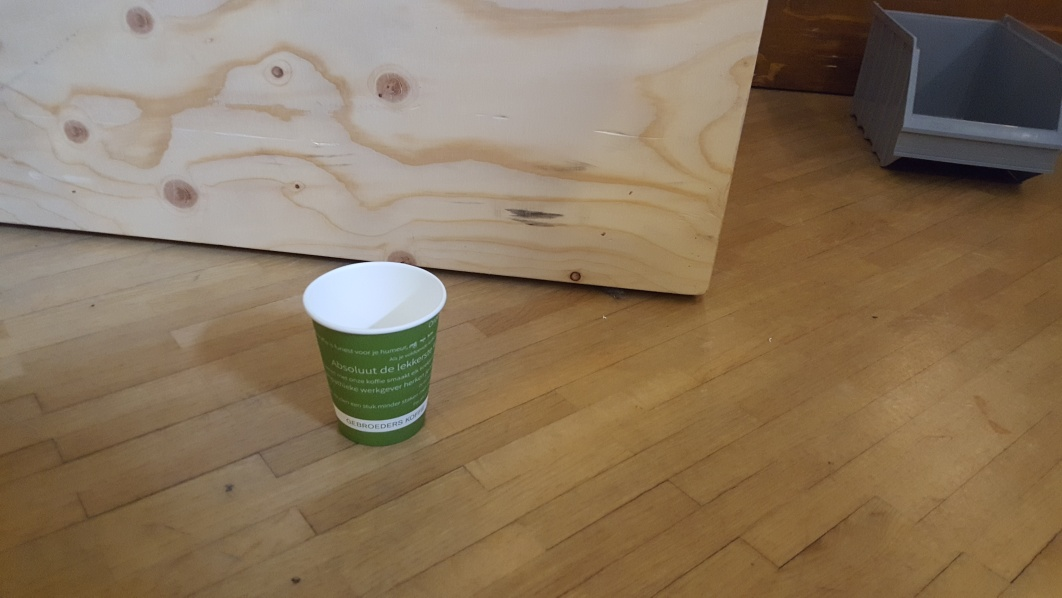cup: (302, 260, 447, 446)
tray: (849, 2, 1062, 185)
